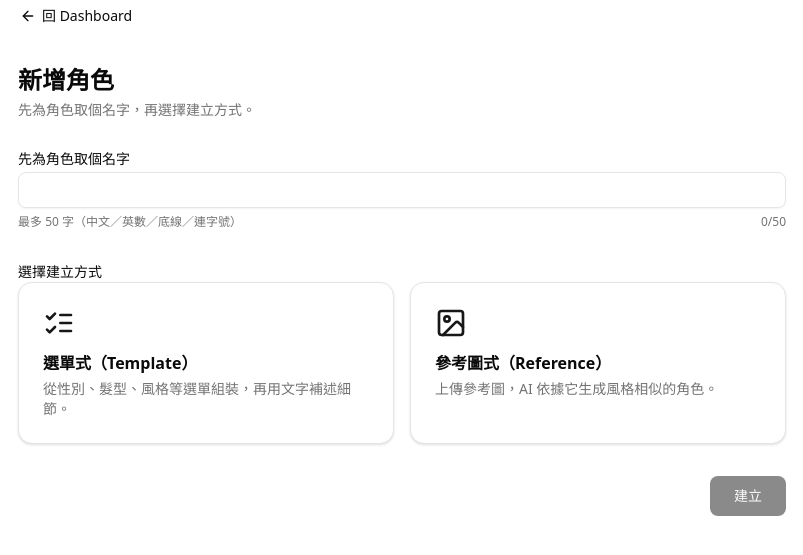
it: NewCharacterPage › surfaces VALIDATION_INVALID_CHARS inline on the name field
The image size is (803, 555).
In the field labelled "先為角色取個名字": (402, 190) [18,172,786,208], type "invalid name"
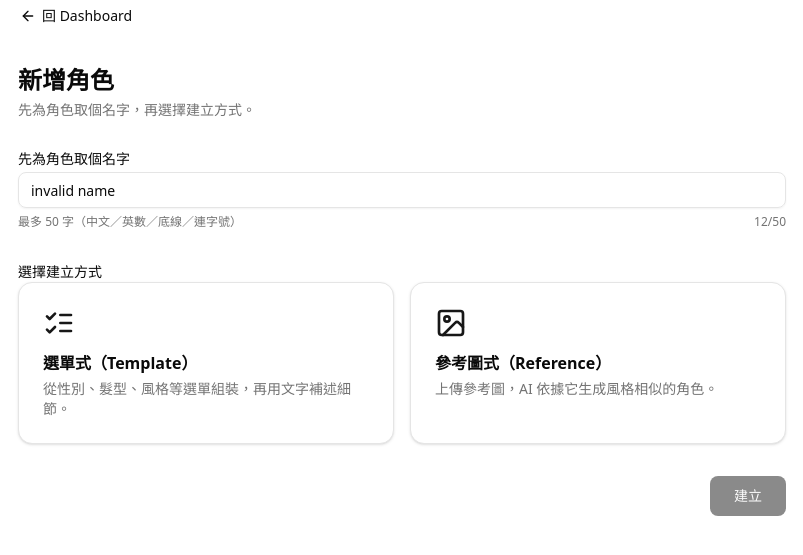
Click the radio button with test id "input-mode-card-template": click(59, 323) [18,282,394,444]
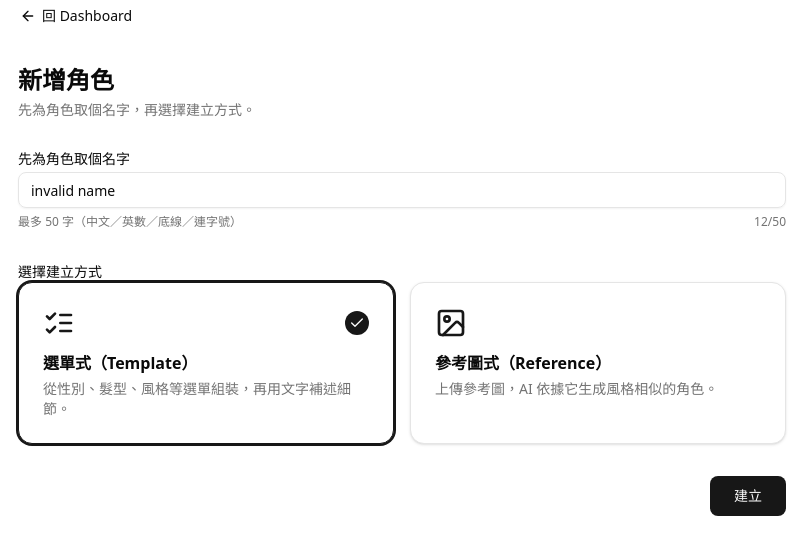
Click the button "建立": click(748, 496) [710,476,786,516]
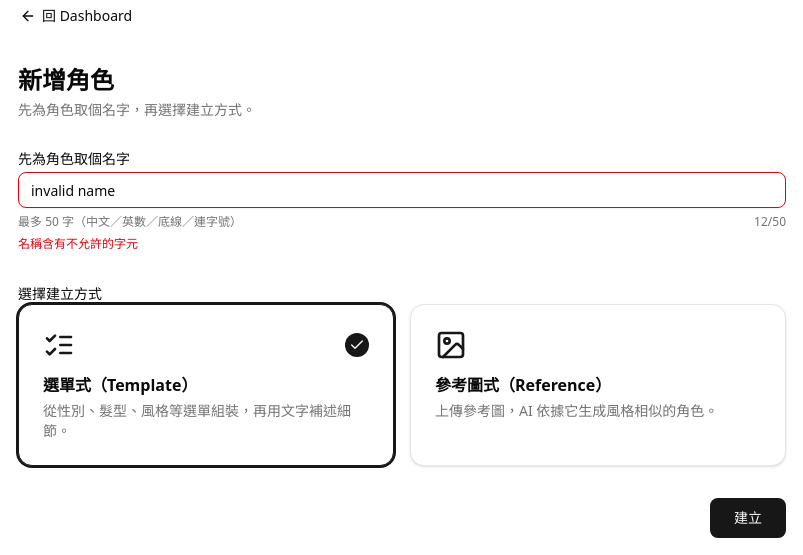
expect the text "名稱含有不允許的字元" is shown: met, box [18,235,138,252]
